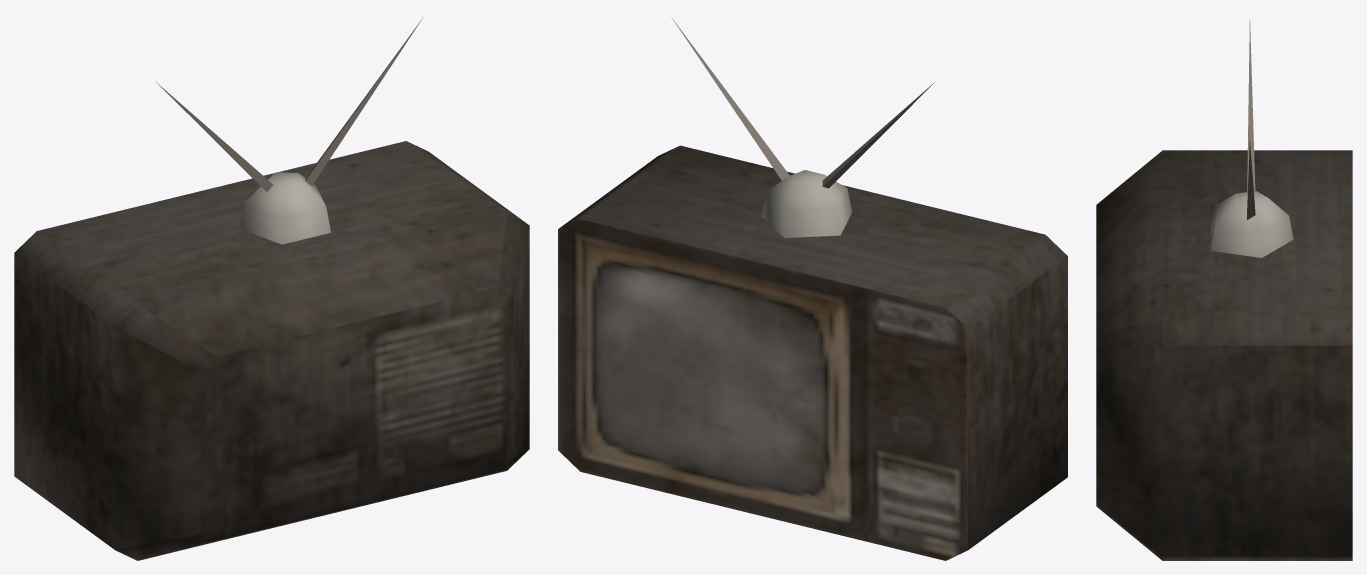
3 renders of one model, left to right at view 1: azimuth 30°, elevation 25°; view 2: azimuth 150°, elevation 25°; view 3: azimuth 270°, elevation 25°, orthographic. The views are drawn at different scales.
Visible parts, largest first — view 1: TV_01; view 2: TV_01; view 3: TV_01.
Part boxes in pixels (bbox=[...]): TV_01: bbox=[14, 17, 529, 560]; TV_01: bbox=[558, 17, 1067, 560]; TV_01: bbox=[1096, 20, 1352, 560].
Size of the model in its own units: 85.1 by 84.66 by 48.42.
